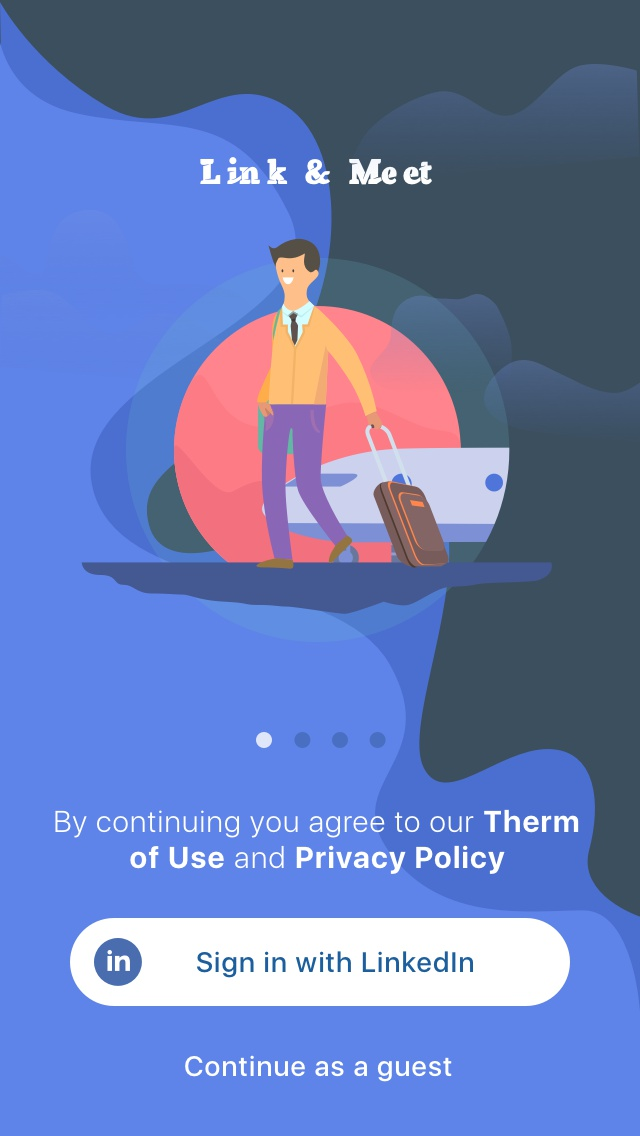BackgroundImage: (1, 2, 640, 1136)
Image: (81, 239, 553, 616)
PageIndicator: (255, 730, 388, 751)
Text: (55, 809, 579, 876), (184, 1055, 453, 1083), (200, 157, 433, 186)
TextButton: (70, 918, 570, 1006)
